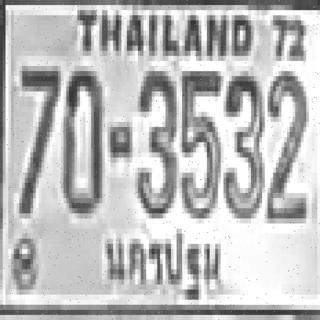N00: (61, 69, 99, 211)
N02: (265, 66, 306, 218)
N03: (135, 66, 174, 213), (222, 71, 261, 218)
N05: (179, 69, 221, 216)
N07: (18, 61, 56, 214)
P28: (97, 224, 226, 308)
